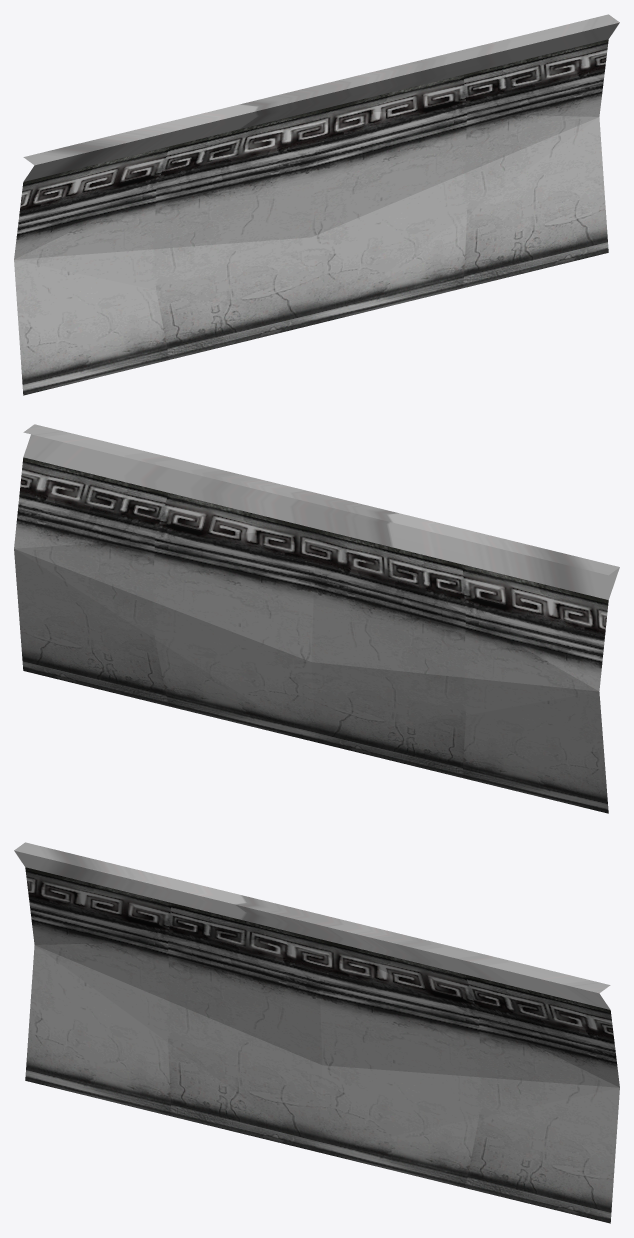
Rendered from W_A3_xxxx [Verziert2]_7.glb.
3 views of the same model, one above another, from view 1: azimuth 30°, elevation 25°; view 2: azimuth 150°, elevation 25°; view 3: azimuth 330°, elevation 25° (orthographic).
Parts seen in each view (by area): view 1: polySurfaceShape787, polySurfaceShape1065; view 2: polySurfaceShape787, polySurfaceShape1065; view 3: polySurfaceShape787, polySurfaceShape1065.
Boxes of the visible parts, x1=… form: polySurfaceShape787: x1=14, y1=39, x2=608, y2=395; polySurfaceShape1065: x1=23, y1=14, x2=619, y2=181; polySurfaceShape787: x1=14, y1=457, x2=608, y2=813; polySurfaceShape1065: x1=23, y1=424, x2=619, y2=599; polySurfaceShape787: x1=25, y1=867, x2=619, y2=1223; polySurfaceShape1065: x1=14, y1=842, x2=610, y2=1009.
Size of the model in its own units: 1 by 0.3891 by 0.0607.
2 materials, 2 textured.
